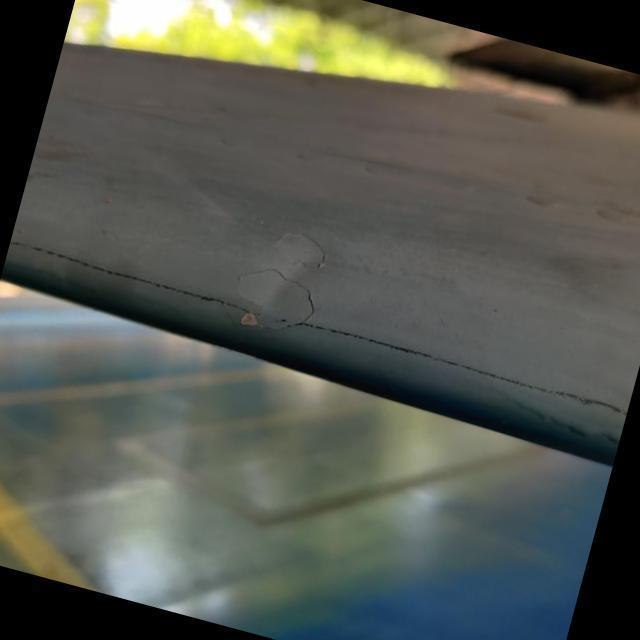Dent: (207, 193, 376, 367)
